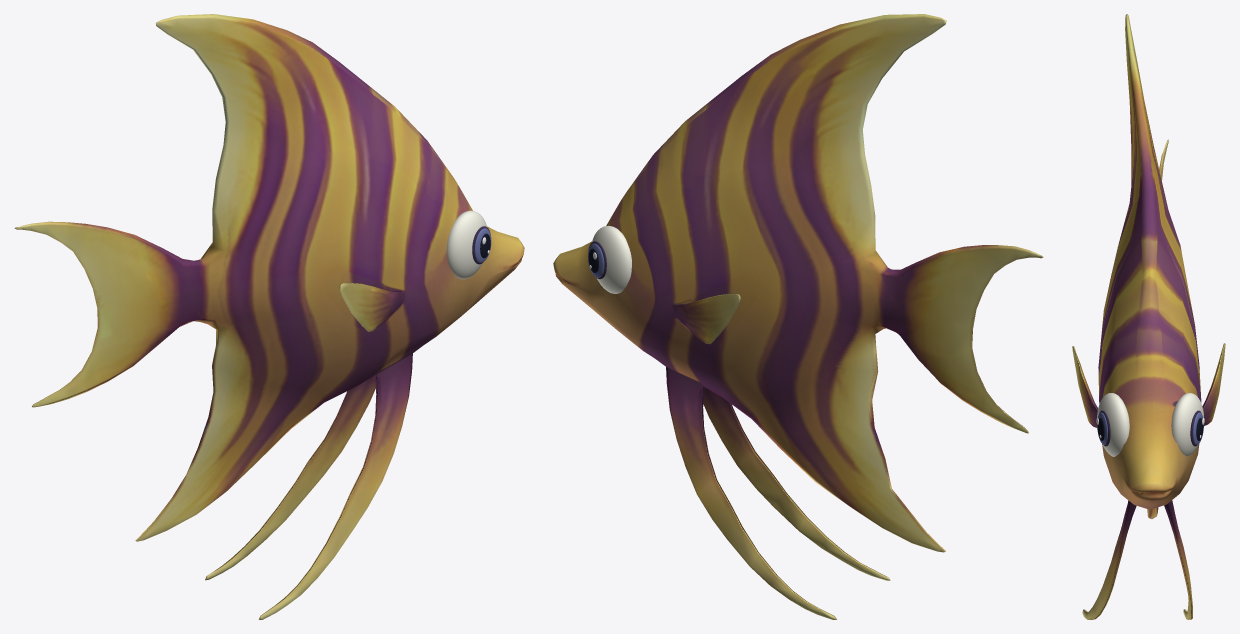
File: angel_fish.glb
3 renders of one model, left to right at view 1: azimuth 30°, elevation 25°; view 2: azimuth 150°, elevation 25°; view 3: azimuth 270°, elevation 25°, orthographic. The views are drawn at different scales.
Visible parts, largest first — view 1: Angel fish; view 2: Angel fish; view 3: Angel fish.
Boxes of the visible parts, bbox=[...] form: Angel fish: bbox=[14, 14, 524, 619]; Angel fish: bbox=[553, 14, 1043, 619]; Angel fish: bbox=[1072, 14, 1225, 619].
Bounding box in the file's own units: 0.5124 × 0.5903 × 0.1457.
6 materials, 1 textured.
